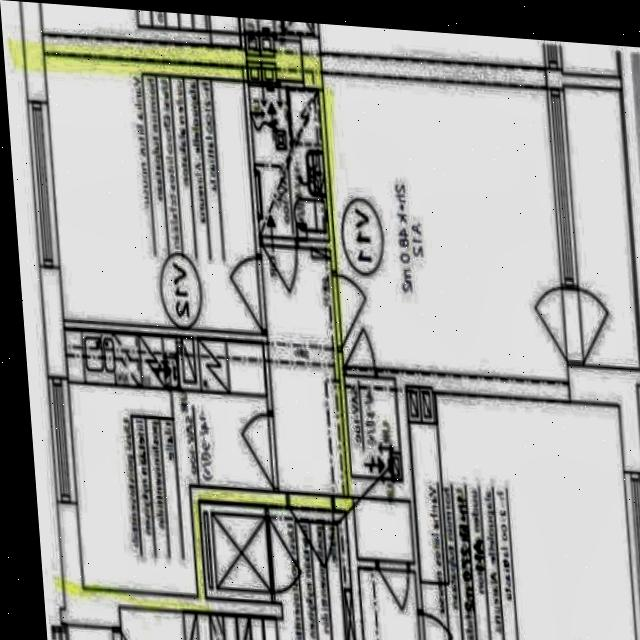room: (322, 56, 568, 398), (45, 41, 262, 348), (65, 315, 281, 603), (564, 83, 640, 372), (249, 82, 329, 247), (200, 497, 272, 606), (344, 372, 403, 483), (354, 495, 415, 567)
